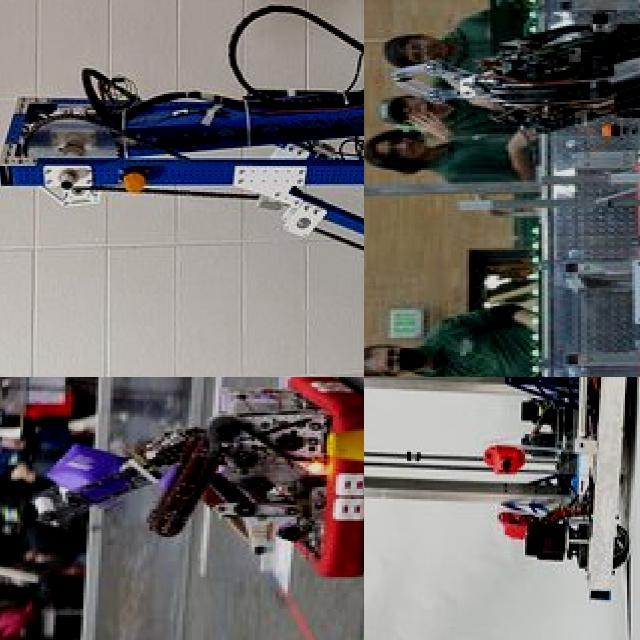FRC-Robots: (0, 0, 364, 340), (364, 377, 640, 640), (44, 377, 364, 592), (461, 0, 640, 234)
